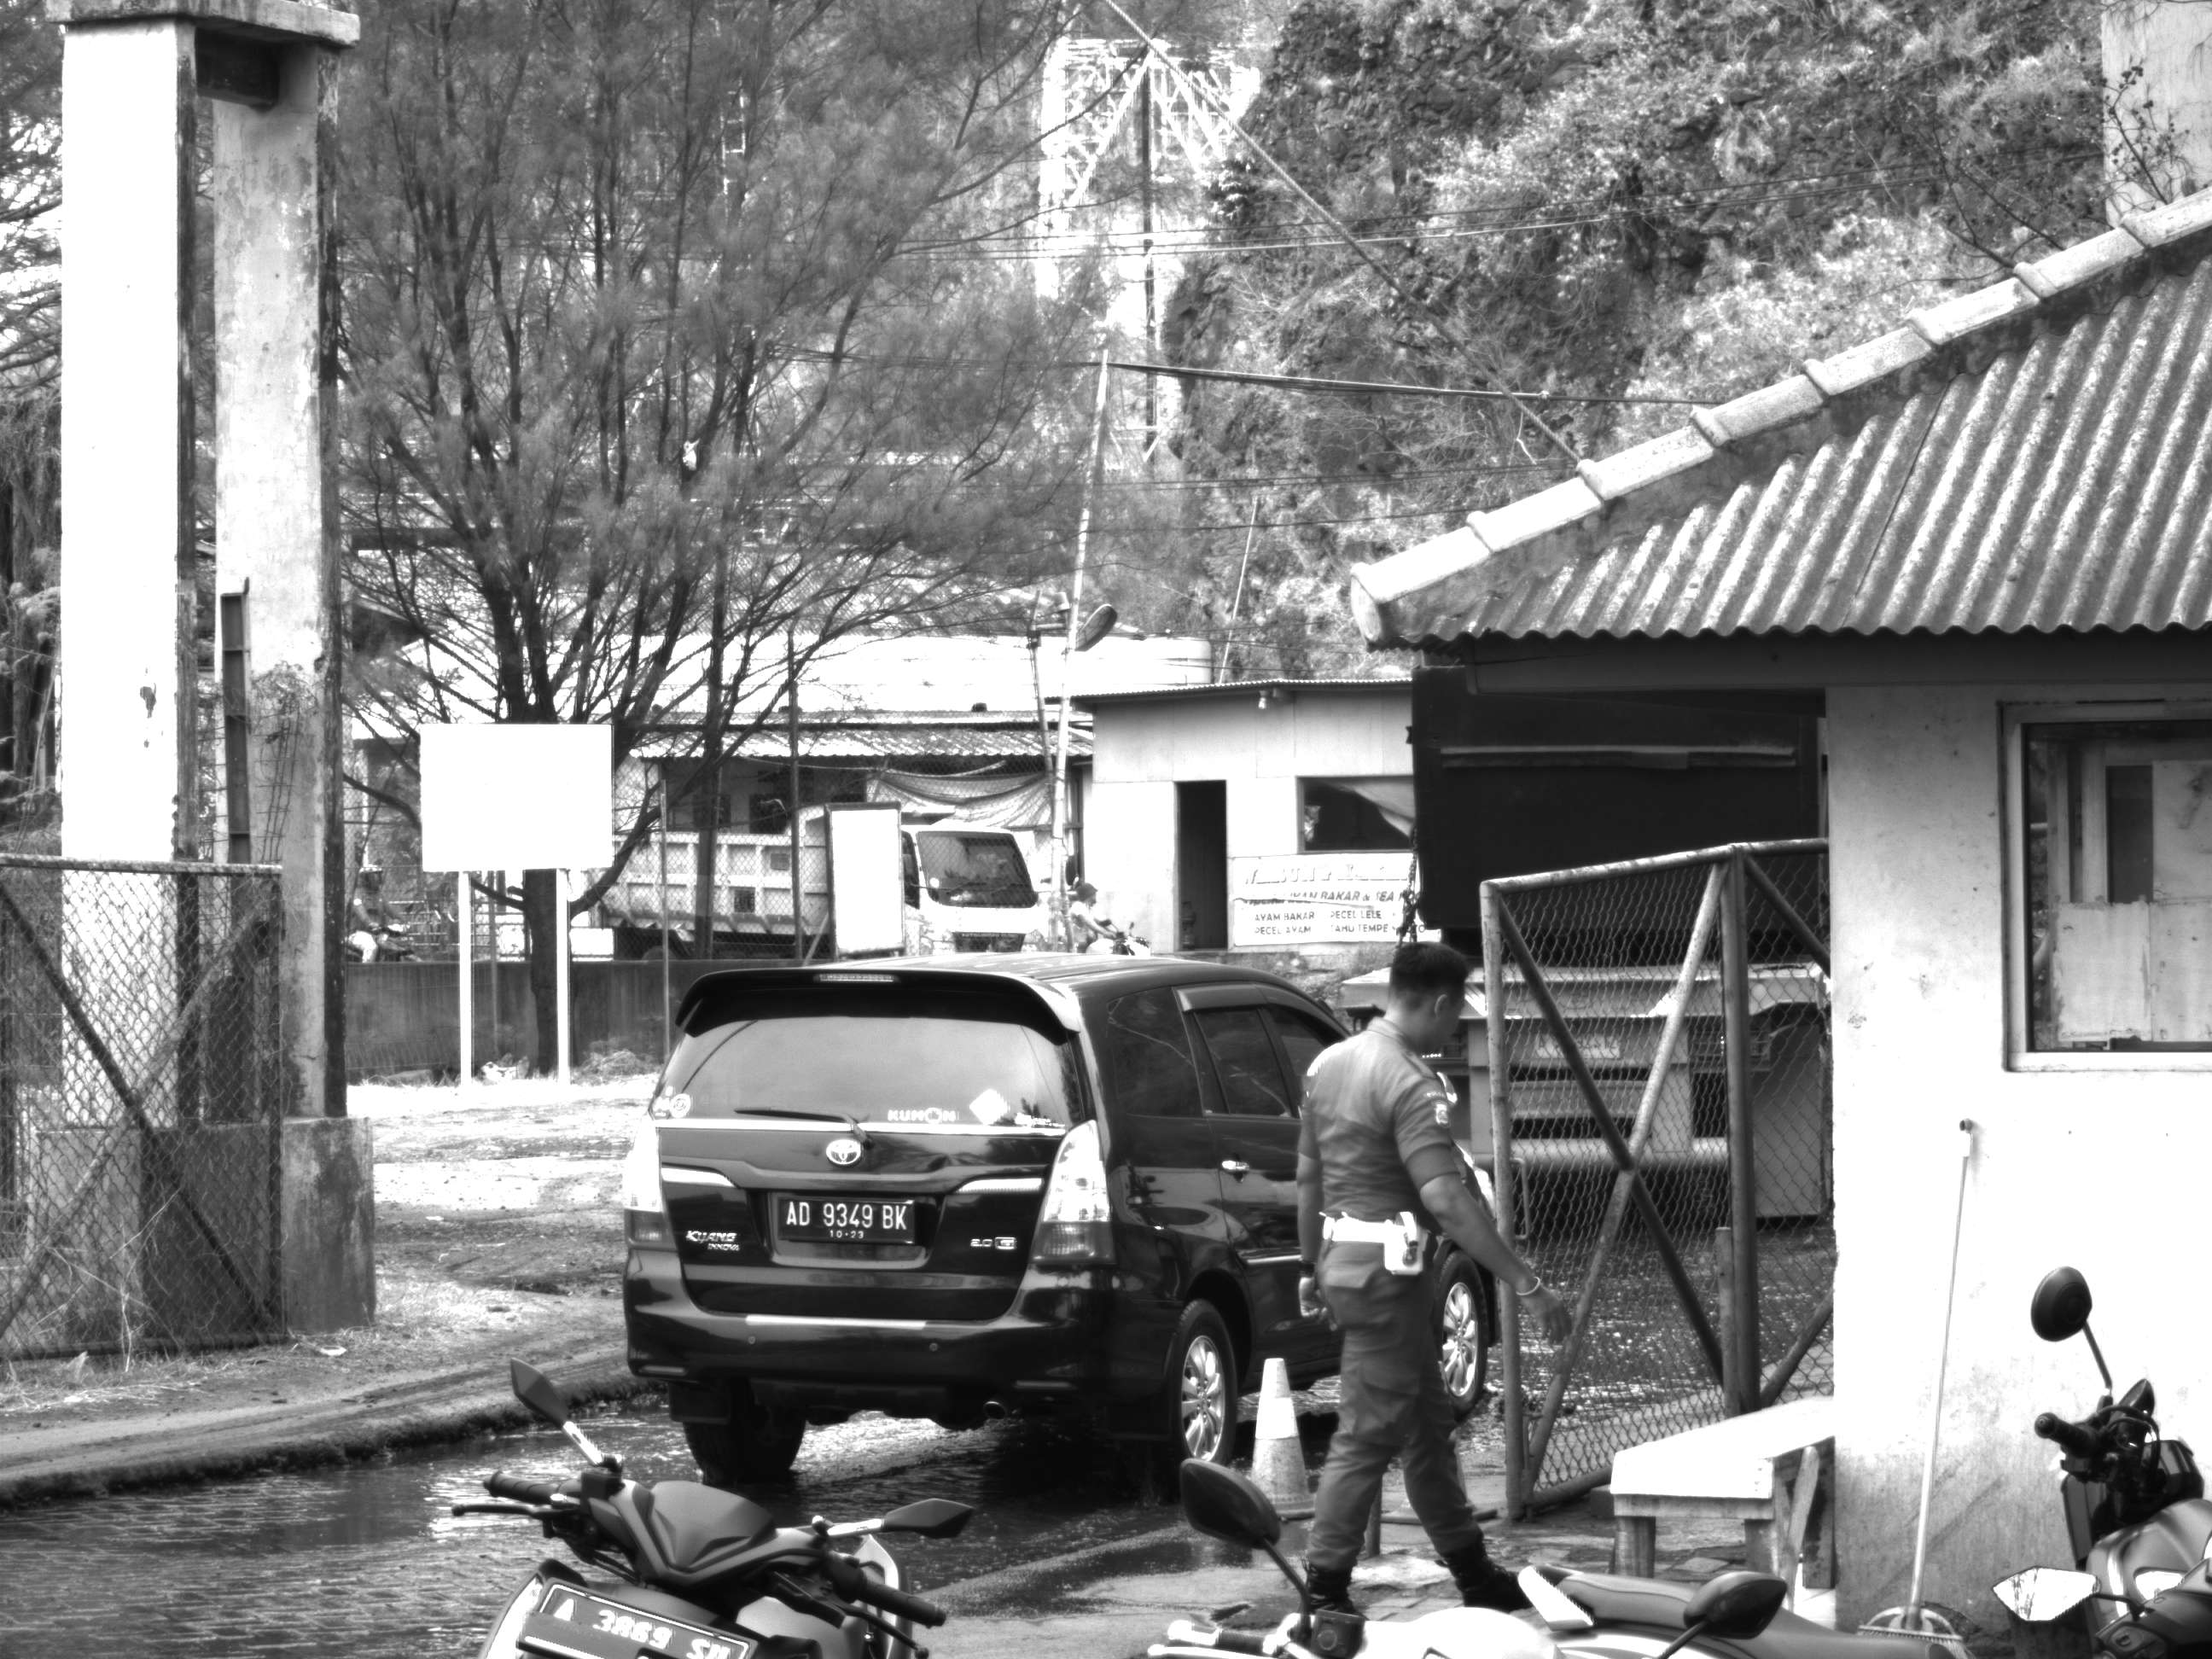day_small_rear: (597, 946, 1295, 1513)
plate: (774, 1188, 920, 1249)
